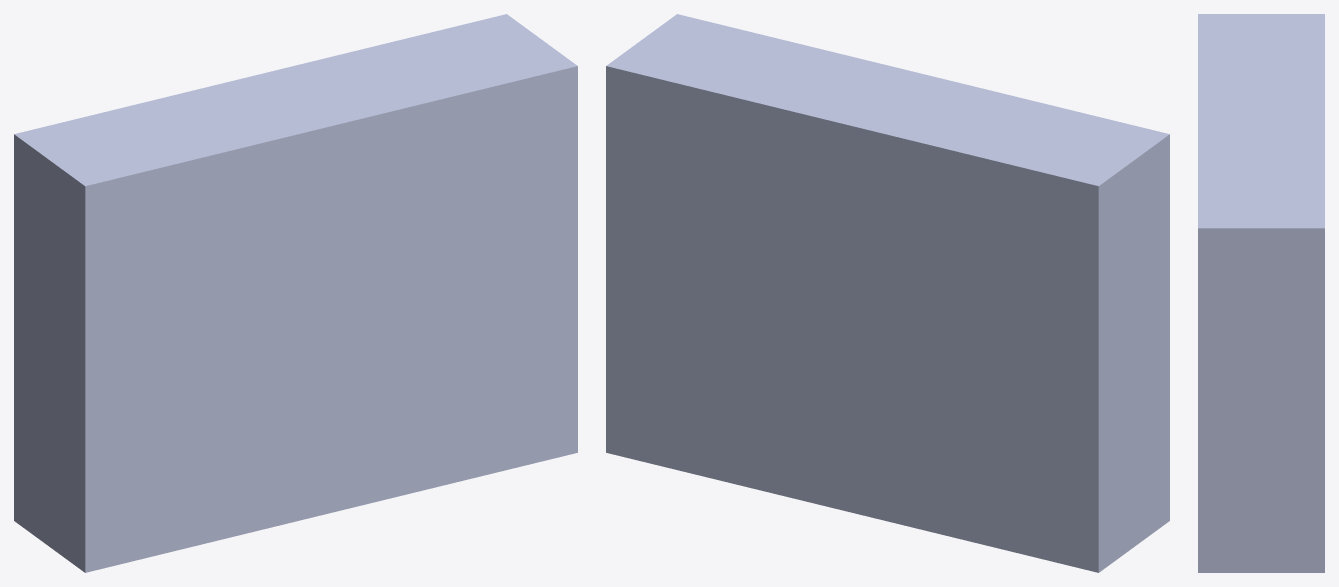
Rendered from assembly-export.GLB.
3 renders of one model, left to right at view 1: azimuth 30°, elevation 25°; view 2: azimuth 150°, elevation 25°; view 3: azimuth 270°, elevation 25°, orthographic. The views are drawn at different scales.
Visible parts, largest first — view 1: component-1; view 2: component-1; view 3: component-1.
Part boxes in pixels (x1=…): component-1: x1=14, y1=14, x2=577, y2=572; component-1: x1=606, y1=14, x2=1169, y2=572; component-1: x1=1198, y1=14, x2=1324, y2=572.
Bounding box in the file's own units: 0.04 × 0.03 × 0.01.
